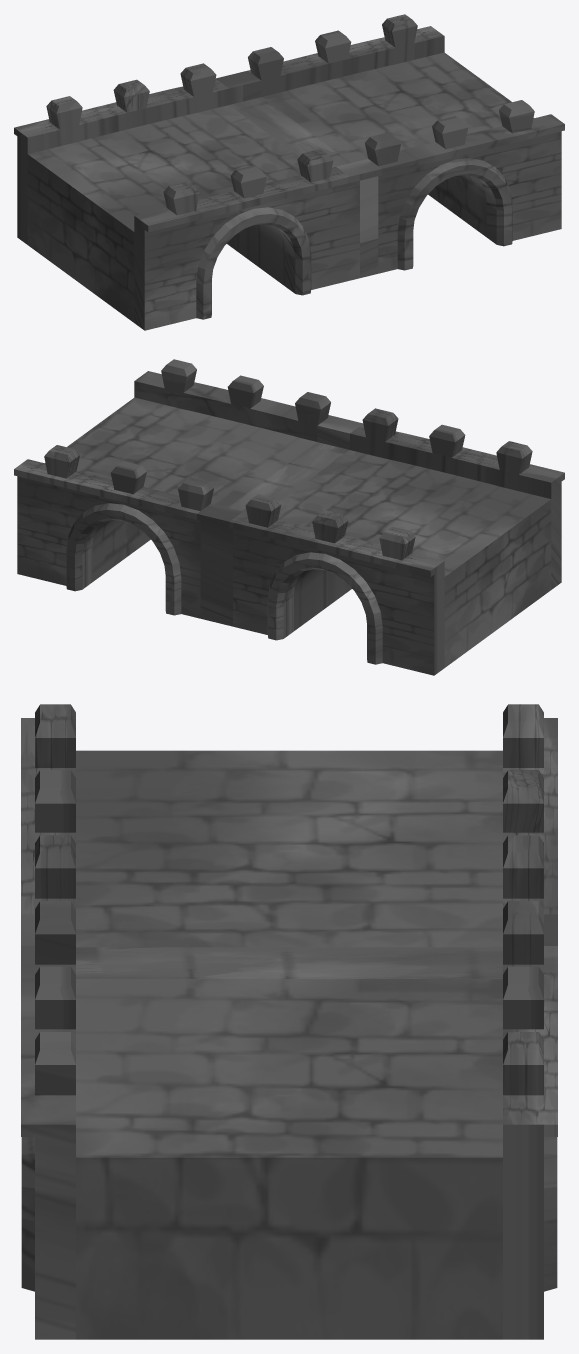
File: s_road.FBX
3 renders of one model, top to bottom at view 1: azimuth 30°, elevation 25°; view 2: azimuth 150°, elevation 25°; view 3: azimuth 270°, elevation 25°, orthographic. The views are drawn at different scales.
Parts seen in each view (by area): view 1: Tube014; view 2: Tube014; view 3: Tube014.
Boxes of the visible parts, x1,y1,x2,y2 form: Tube014: [14, 14, 564, 330]; Tube014: [14, 359, 564, 675]; Tube014: [21, 704, 557, 1339].
Bounding box in the file's own units: 507 × 151 × 283.
